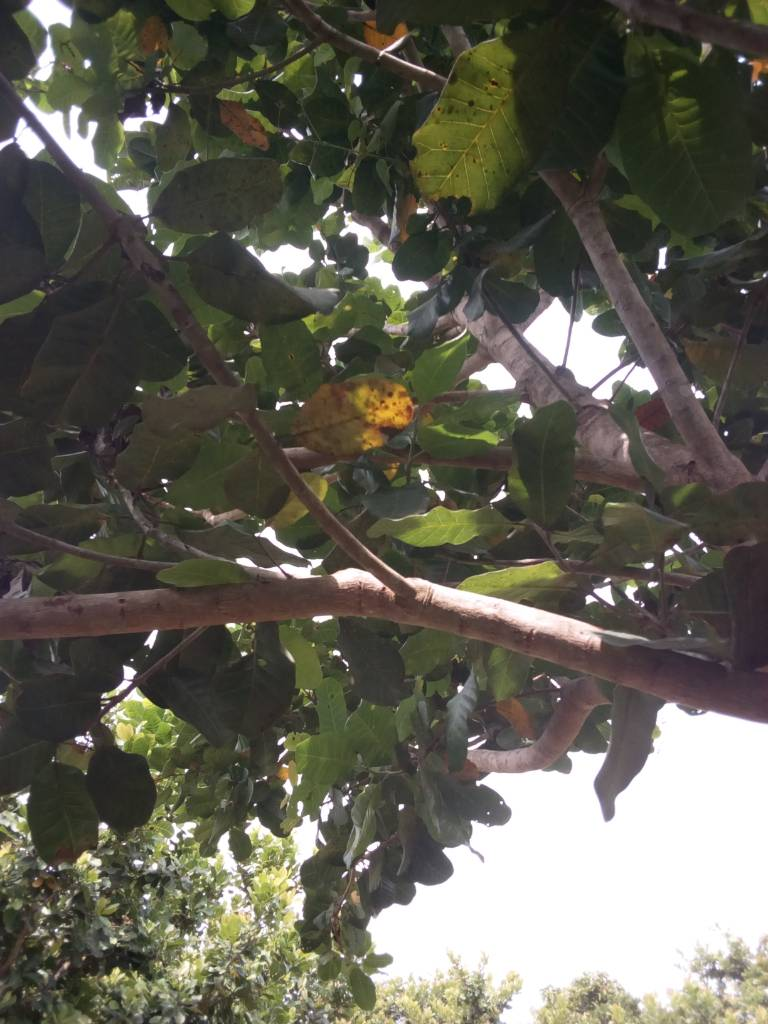Alternariose: (293, 377, 424, 460), (154, 157, 288, 232), (215, 92, 272, 150)
